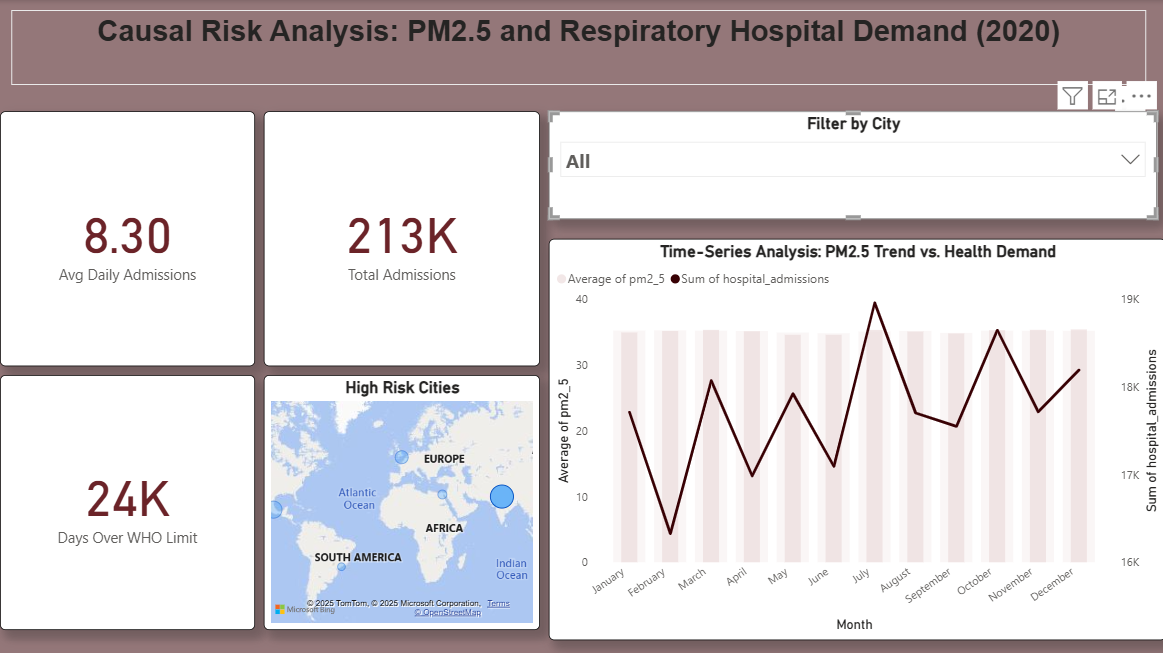

The page's visual inventory and layout, read from the dashboard file:
{"tool":"powerbi","page":{"name":"Causal Risk Analysis","canvas":[1280,720],"ordinal":0},"visuals":[{"type":"card","fields":{"Values":["Fact_AirQuality.Avg Admissions on High Risk Days"]},"box":[0,122.1,279.9,279.9],"z":0},{"type":"card","title":"Total Days Over WHO Limit","fields":{"Values":["Fact_AirQuality.High Risk Days (>15µg/m³)"]},"box":[0,412,280,280],"z":1000},{"type":"card","fields":{"Values":["Fact_AirQuality.Total Hospital Admissions"]},"box":[289.5,122.1,303.3,279.9],"z":2000},{"type":"map","title":"High Risk Cities","fields":{"Category":["Fact_AirQuality.city"],"Size":["Fact_AirQuality.High Risk Days (>15µg/m³)"]},"box":[289.5,411.7,303.3,279.9],"z":3000},{"type":"lineStackedColumnComboChart","title":"Time-Series Analysis: PM2.5 Trend vs. Health Demand","fields":{"Category":["Fact_AirQuality.date.Variation.Date Hierarchy.Month"],"Y":["Avg(Fact_AirQuality.pm2_5)"],"Y2":["Sum(Fact_AirQuality.hospital_admissions)"]},"box":[602.4,262.1,677.9,440.5],"z":4000},{"type":"slicer","title":"Filter by City","fields":{"Values":["Fact_AirQuality.city"]},"box":[602.4,122.1,668.3,118],"z":5000},{"type":"textbox","box":[12.3,11,1246,82.3],"z":6000}]}

Visuals, with their boxes in screenshot pixels (x1, y1, x2, y2), scaled from the page's 1280x720 canvas onto the 1163x653 screenshot:
card - Fact_AirQuality.Avg Admissions on High Risk Days: [x1=0, y1=111, x2=254, y2=365]
"Total Days Over WHO Limit" card: [x1=0, y1=374, x2=254, y2=628]
card - Fact_AirQuality.Total Hospital Admissions: [x1=263, y1=111, x2=539, y2=365]
"High Risk Cities" map: [x1=263, y1=373, x2=539, y2=627]
"Time-Series Analysis: PM2.5 Trend vs. Health Demand" lineStackedColumnComboChart: [x1=547, y1=238, x2=1162, y2=637]
"Filter by City" slicer: [x1=547, y1=111, x2=1155, y2=218]
textbox: [x1=11, y1=10, x2=1143, y2=85]
